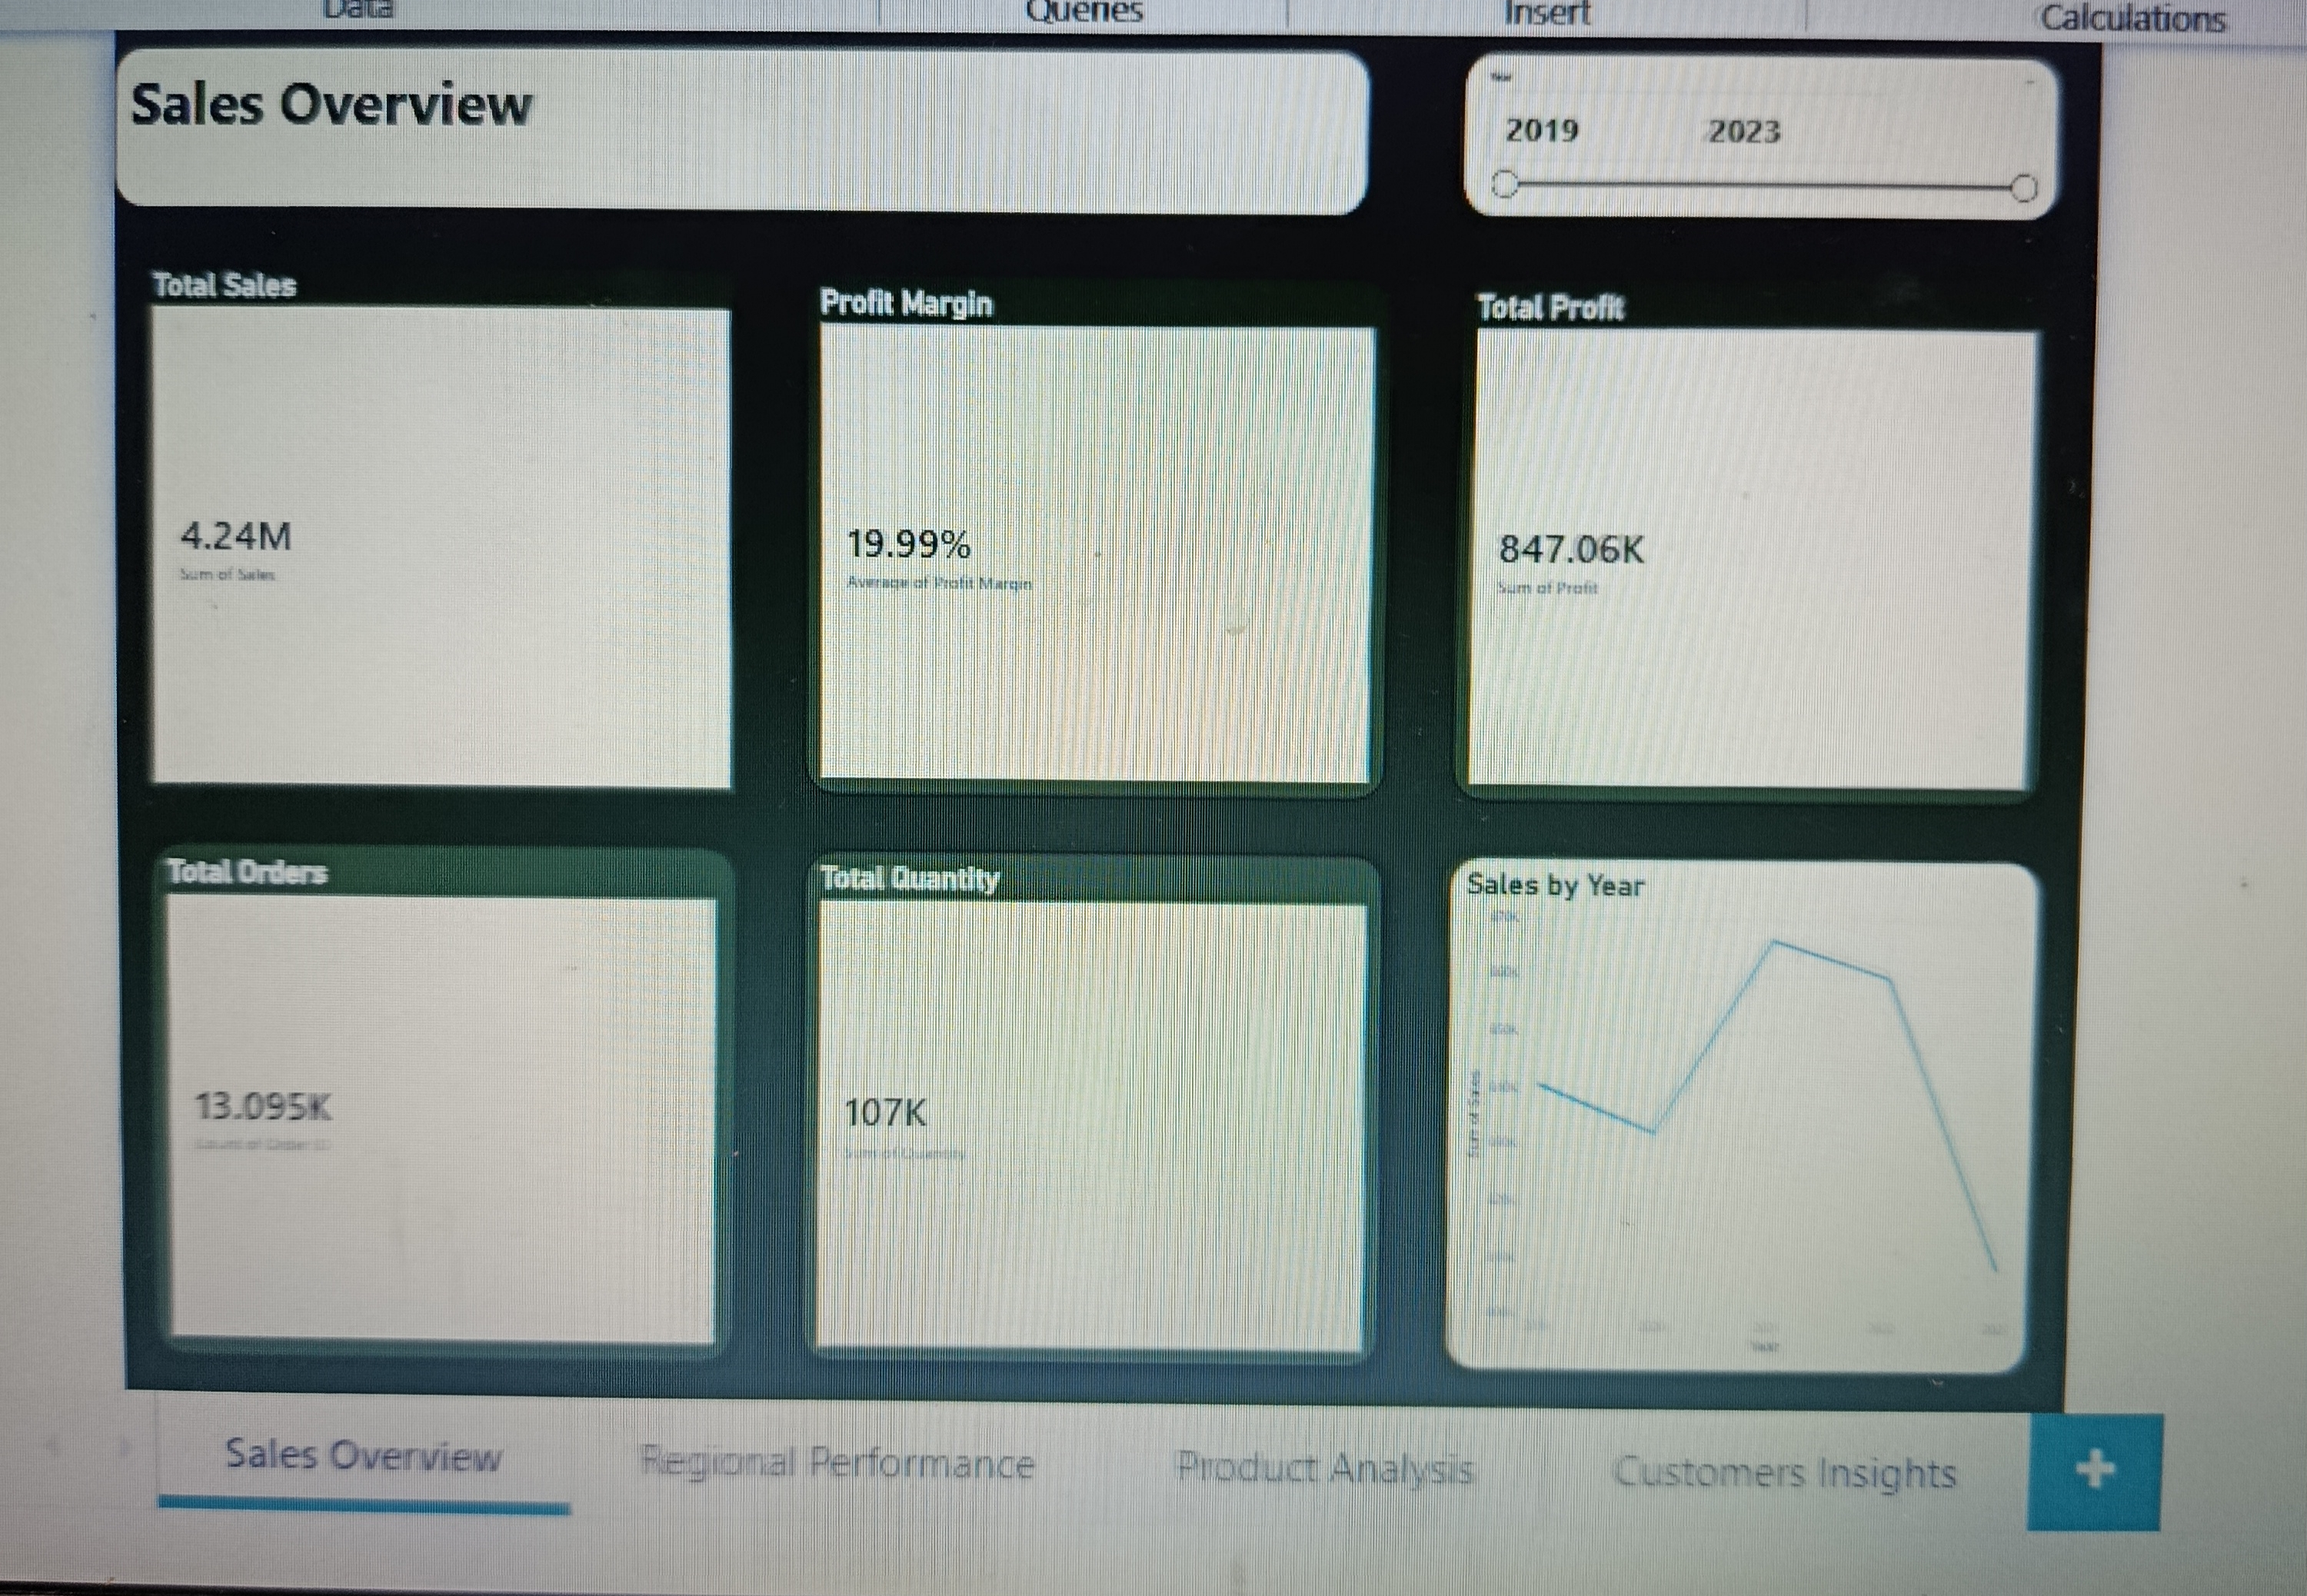

The dashboard page shown, as its layout file describes it:
{"tool":"powerbi","page":{"name":"Sales Overview","canvas":[1840,1280],"ordinal":0},"visuals":[{"type":"cardVisual","title":"Total Sales","fields":{"Data":["Sum(Superstore Sales.Sales)"]},"box":[32.4,220.2,547.4,485.8],"z":0},{"type":"cardVisual","title":"Total Profit","fields":{"Data":["Sum(Superstore Sales.Profit)"]},"box":[1253.5,220.2,547.4,485.8],"z":1000},{"type":"cardVisual","title":"Total Orders","fields":{"Data":["Count(Superstore Sales.Order ID)"]},"box":[33.8,757.9,547,485],"z":2000},{"type":"cardVisual","title":"Profit Margin","fields":{"Data":["Avg(Superstore Sales.Profit Margin)"]},"box":[644.6,220.2,547.4,485.8],"z":3000},{"type":"lineChart","title":" Sales by Year","fields":{"Category":["Superstore Sales.Order Date.Variation.Date Hierarchy.Year","Superstore Sales.Order Date.Variation.Date Hierarchy.Quarter","Superstore Sales.Order Date.Variation.Date Hierarchy.Month","Superstore Sales.Order Date.Variation.Date Hierarchy.Day"],"Y":["Sum(Superstore Sales.Sales)"]},"box":[1253.2,757.9,547,485],"z":4000},{"type":"textbox","box":[0,16.2,1166,149],"z":5000},{"type":"cardVisual","title":"Total Quantity","fields":{"Data":["Sum(Superstore Sales.Quantity)"]},"box":[644.6,757.9,547.4,485.8],"z":6000},{"type":"slicer","fields":{"Values":["Superstore Sales.Year"]},"box":[1253.5,16.2,547.4,149],"z":7000}]}

Visuals, with their boxes on the page's 1840x1280 design canvas (x1, y1, x2, y2). These are canvas units, not pixel positions in the 2307x1596 screenshot, which may show the page scaled, cropped or inside an application window:
"Total Sales" cardVisual: bbox(32, 220, 580, 706)
"Total Profit" cardVisual: bbox(1254, 220, 1801, 706)
"Total Orders" cardVisual: bbox(34, 758, 581, 1243)
"Profit Margin" cardVisual: bbox(645, 220, 1192, 706)
" Sales by Year" lineChart: bbox(1253, 758, 1800, 1243)
textbox: bbox(0, 16, 1166, 165)
"Total Quantity" cardVisual: bbox(645, 758, 1192, 1244)
slicer - Superstore Sales.Year: bbox(1254, 16, 1801, 165)
